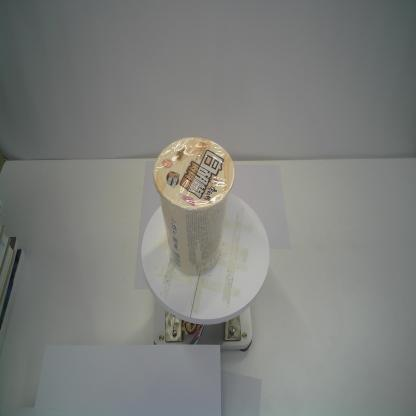Instant Noodles: (152, 136, 236, 276)
